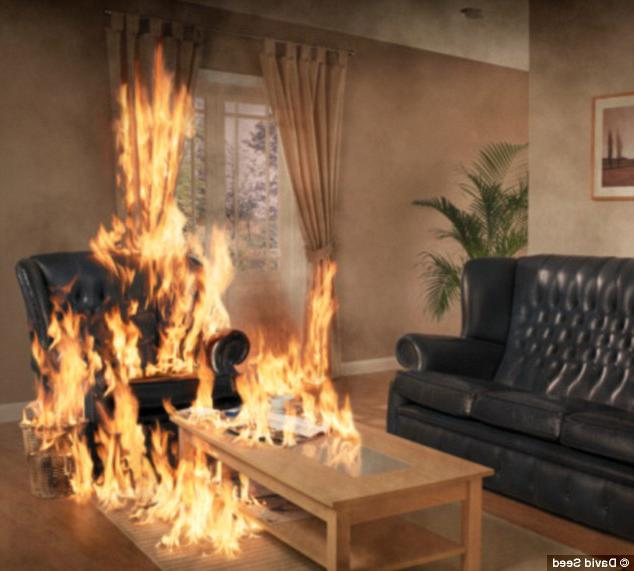fire: (44, 55, 356, 563)
